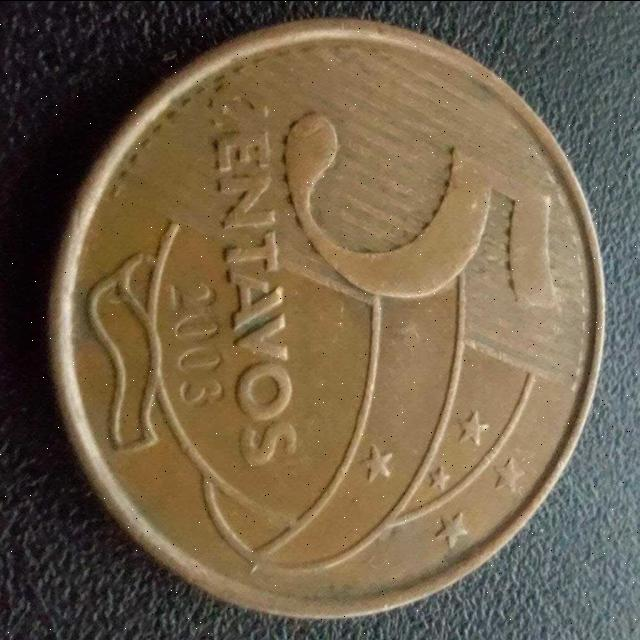5 cent: (51, 19, 608, 618)
